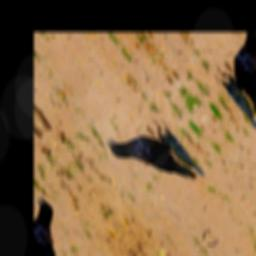Crow: (104, 105, 202, 211)
